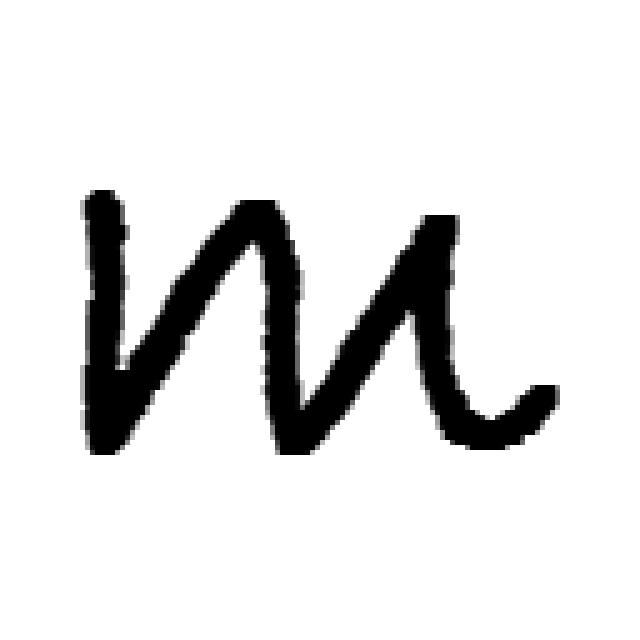M: (65, 175, 565, 465)
